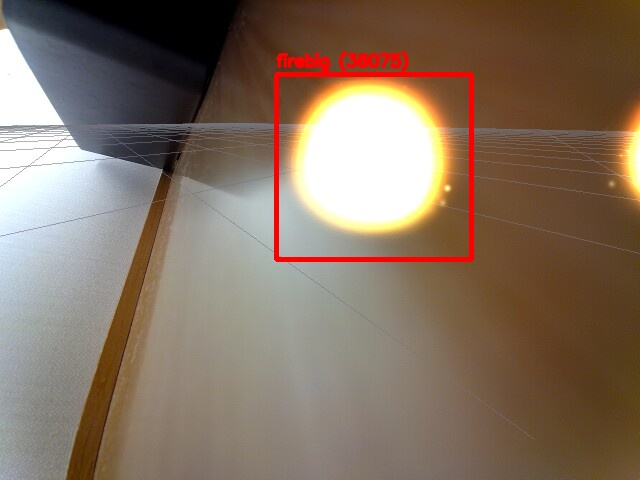firebig: (276, 74, 471, 259)
